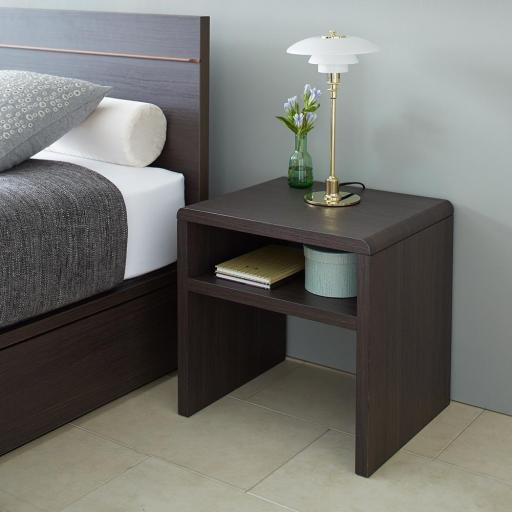table: (176, 170, 455, 463)
